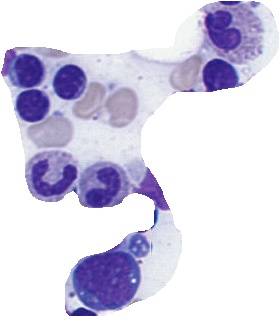objectness: (204, 1, 254, 51), (79, 161, 129, 211), (21, 154, 71, 204), (81, 253, 131, 303), (191, 48, 241, 98), (47, 57, 97, 107), (9, 83, 59, 133), (0, 45, 50, 95)
